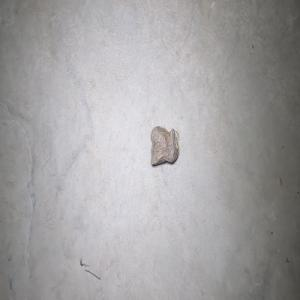Rock: (149, 122, 178, 165)
